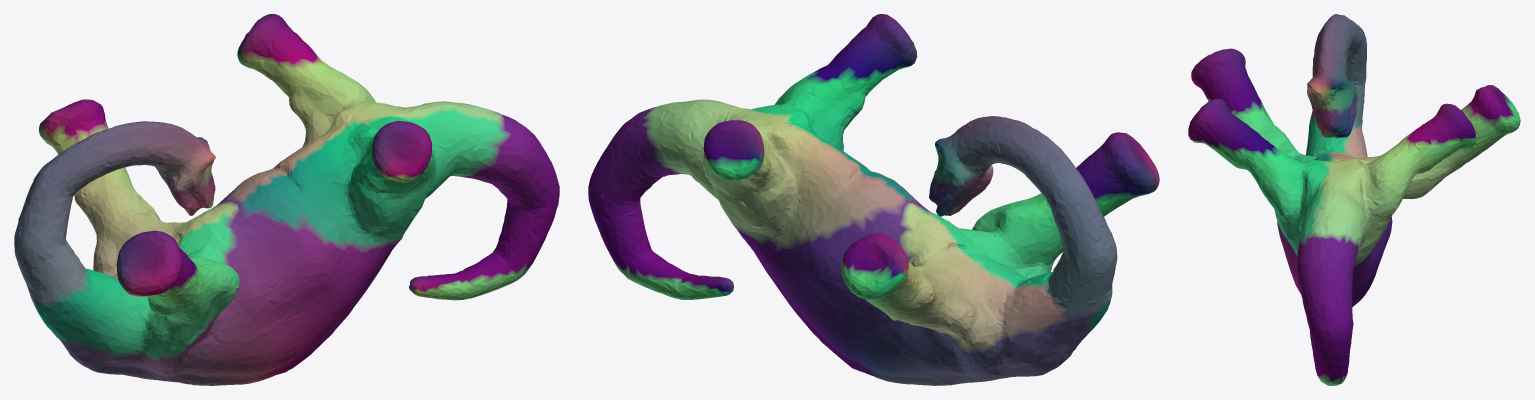
The model's file is dinosaur-17.off.obj.
The picture shows the model from 3 angles, left to right: view 1: azimuth 30°, elevation 25°; view 2: azimuth 150°, elevation 25°; view 3: azimuth 270°, elevation 25°; orthographic projection. The views are drawn at different scales.
Bounding box in the file's own units: 1.63 × 0.8554 × 1.06.
